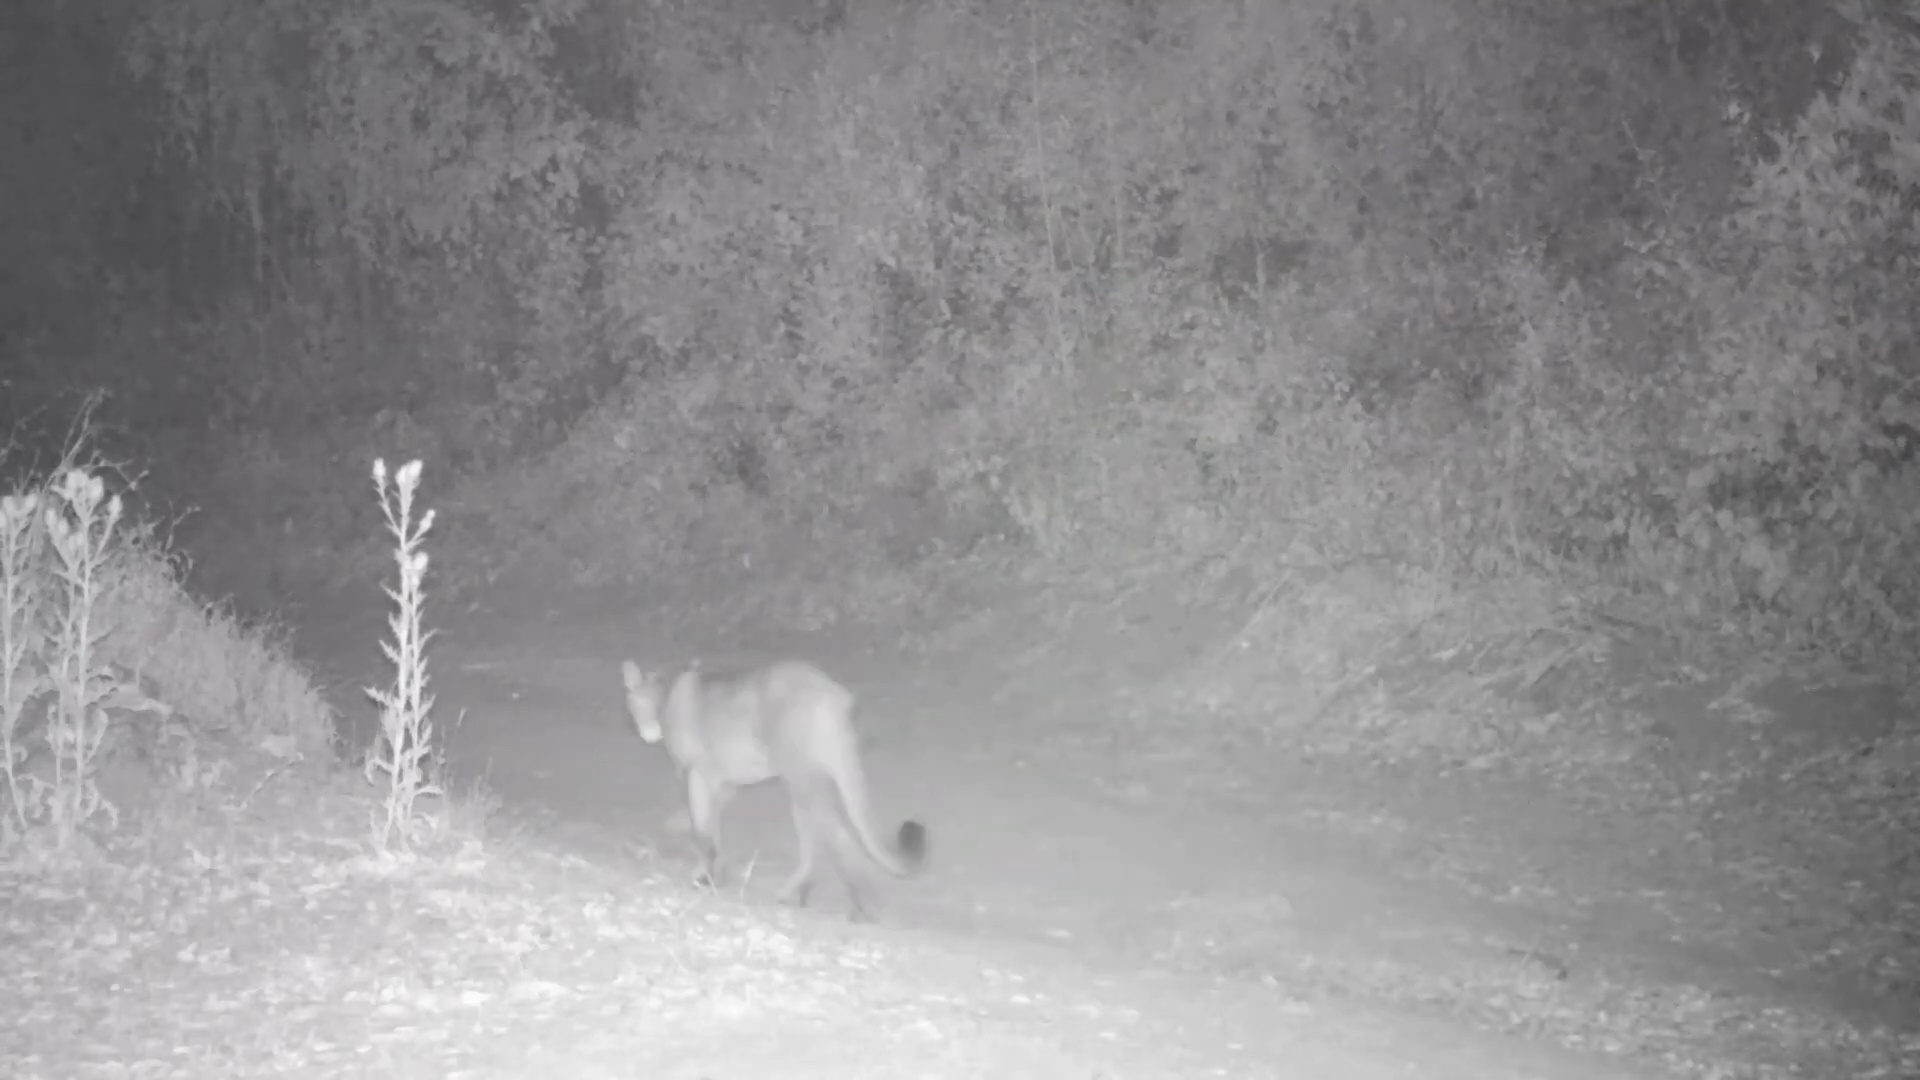Lion: (618, 655, 928, 924)
